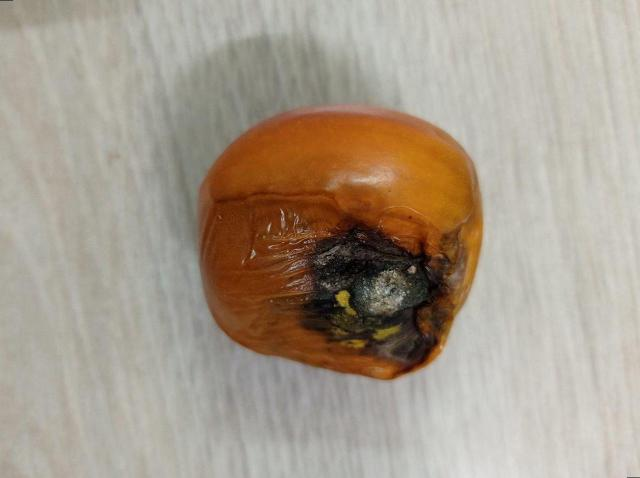defect: (193, 101, 486, 382)
